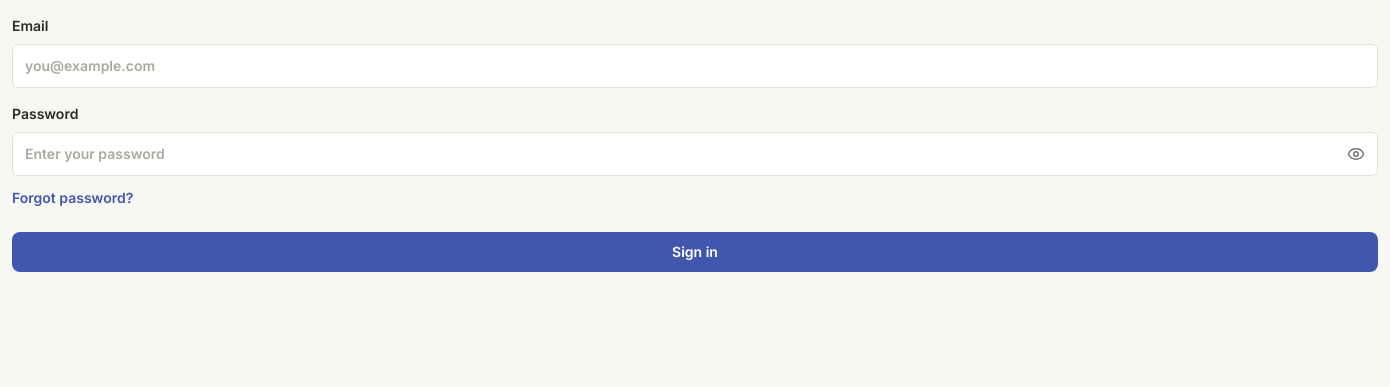
Test case: rate-limited auth forms › login: other errors still show the normal message
In the field labelled "Email": (695, 66) [12,44,1378,88], type "a@example.com"
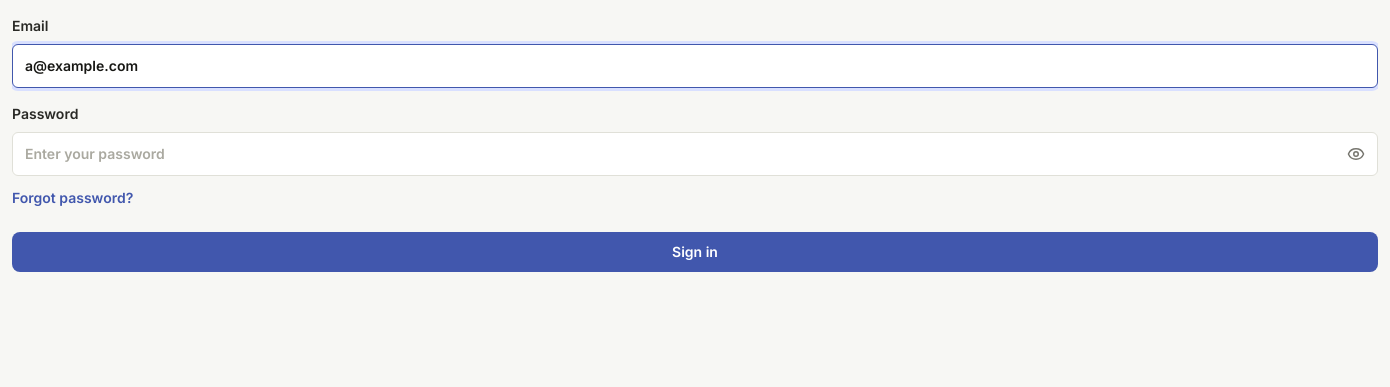
In the password field labelled "Password": (695, 154) [12,132,1378,176], type "wrong-password"
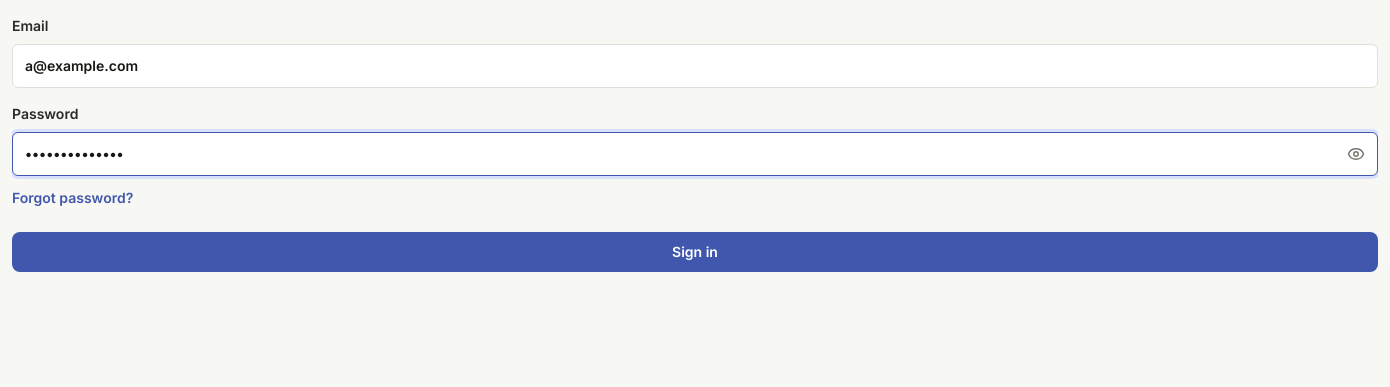
Click the button "Sign in": (695, 252) [12,232,1378,272]
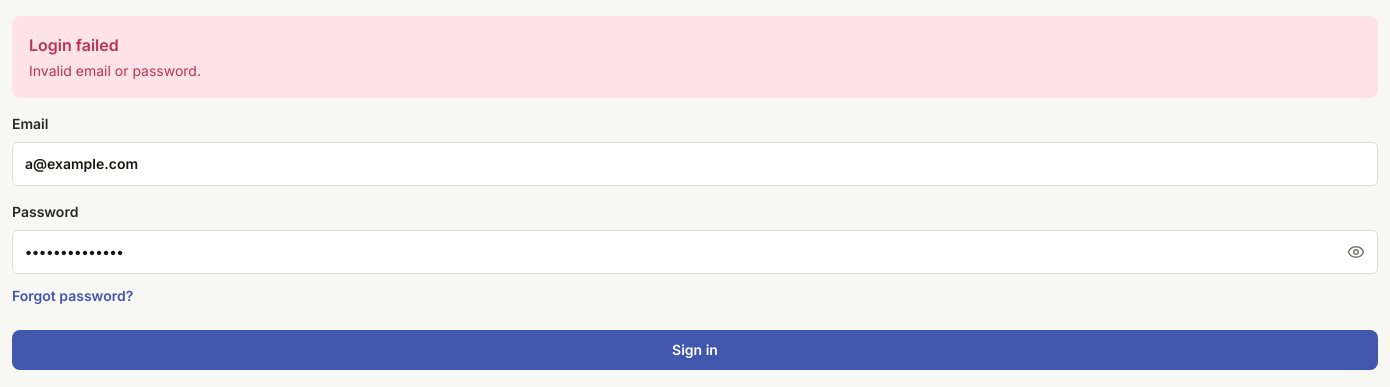
Expected: the button "Sign in" is enabled, [12,330,1378,370]
Expected: the text "Invalid email or password." is shown, [29,62,201,79]
